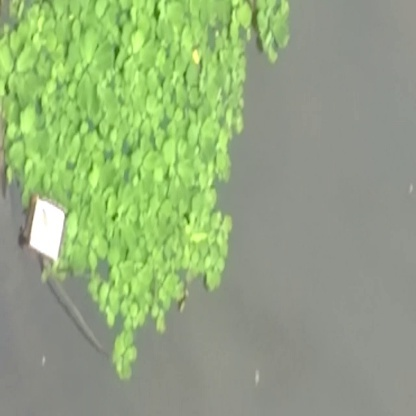grass: (137, 4, 295, 207)
